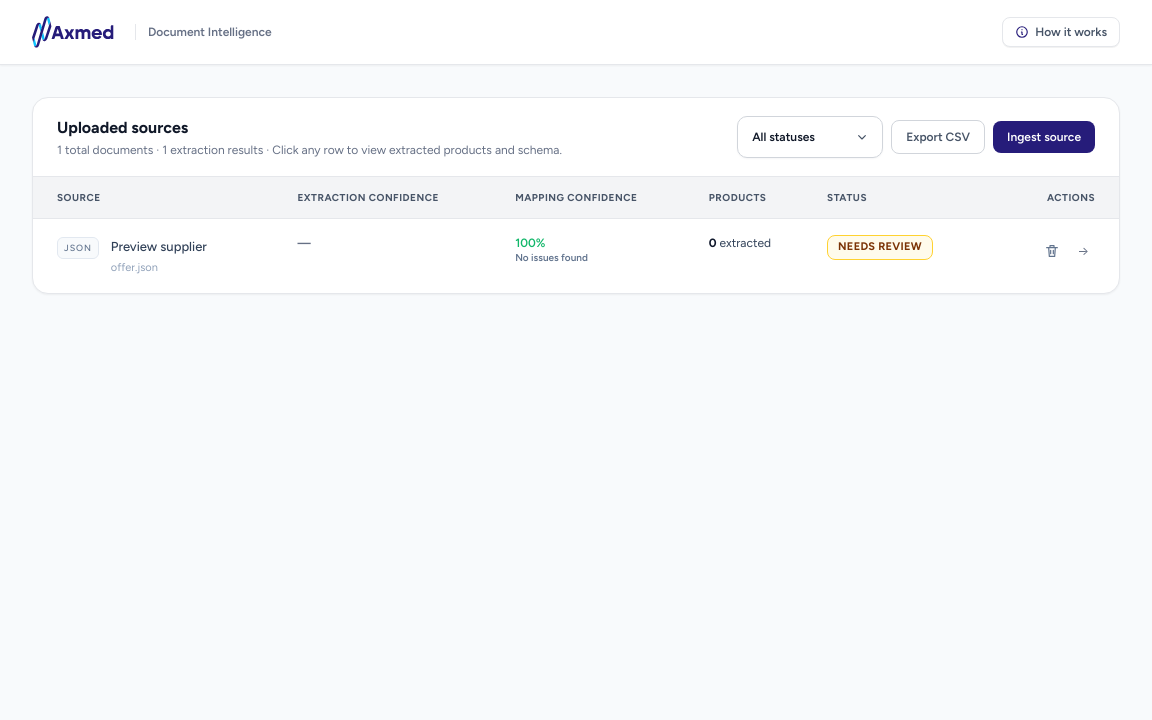
Test case: App › previews JSON source files inside the platform from the Home filename
Click the button titled "Preview offer.json".
click(134, 268)  # box [111,258,158,277]
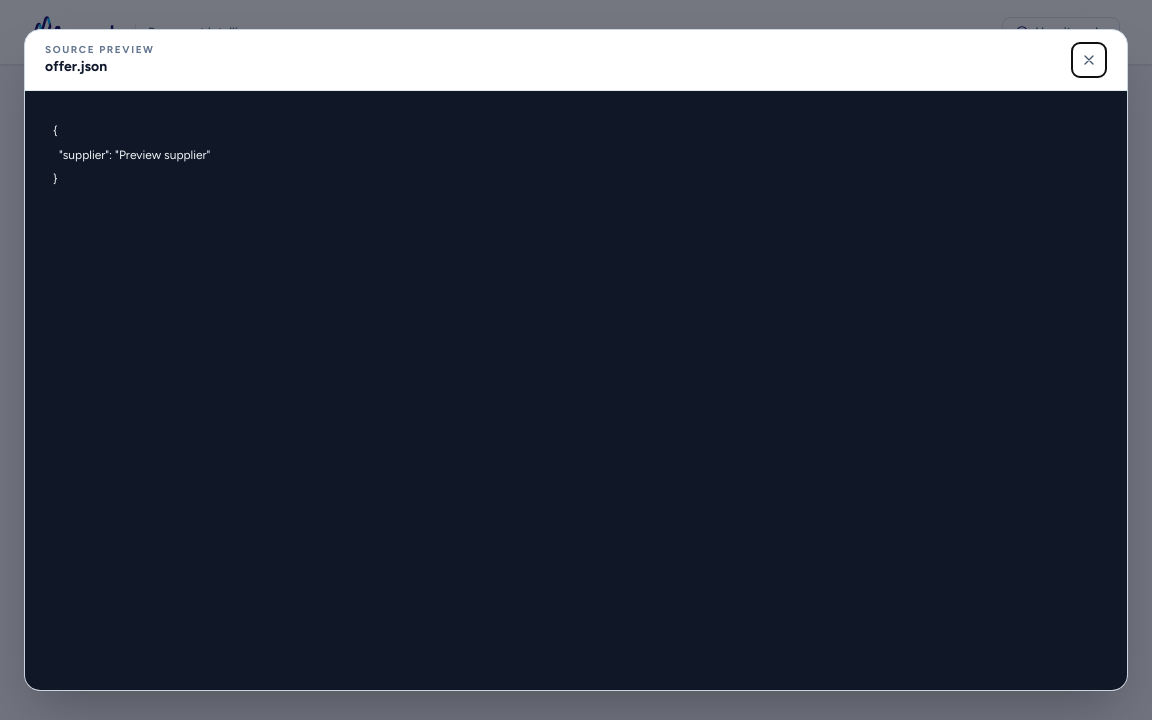
Expected: the dialog shows "Source preview", [45,43,155,56]
Expected: the dialog shows "\"supplier\": \"Preview supplier\"", [53,124,210,186]
